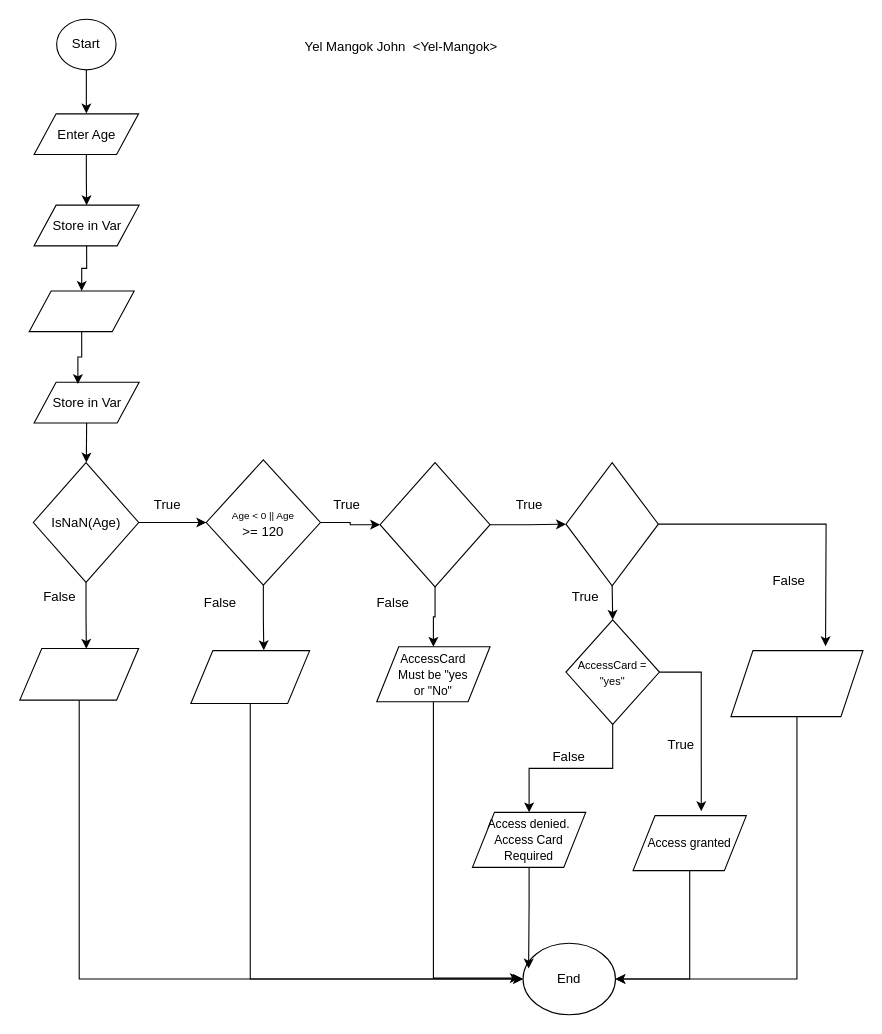
Image size: 882x1034. Some labels were removed from this diagram. Each missing label, with the box of its shape:
Access denied. Mimimum age required: (730, 650, 863, 717)
AccessCard !== "yes" && AccessCard !== "no": (379, 461, 490, 587)
Age >= 18: (565, 461, 658, 586)
Age must be a number: (19, 647, 139, 700)
Age must be between 0 and 120: (190, 650, 310, 703)
Enter AccessCard: (28, 290, 134, 332)
